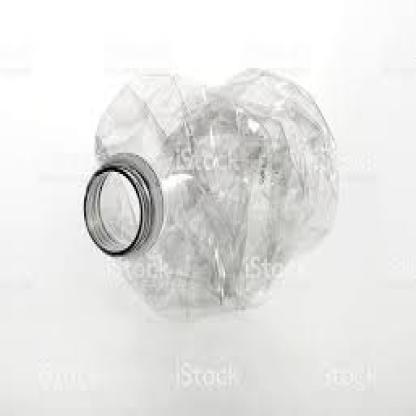trash: (84, 69, 336, 308)
